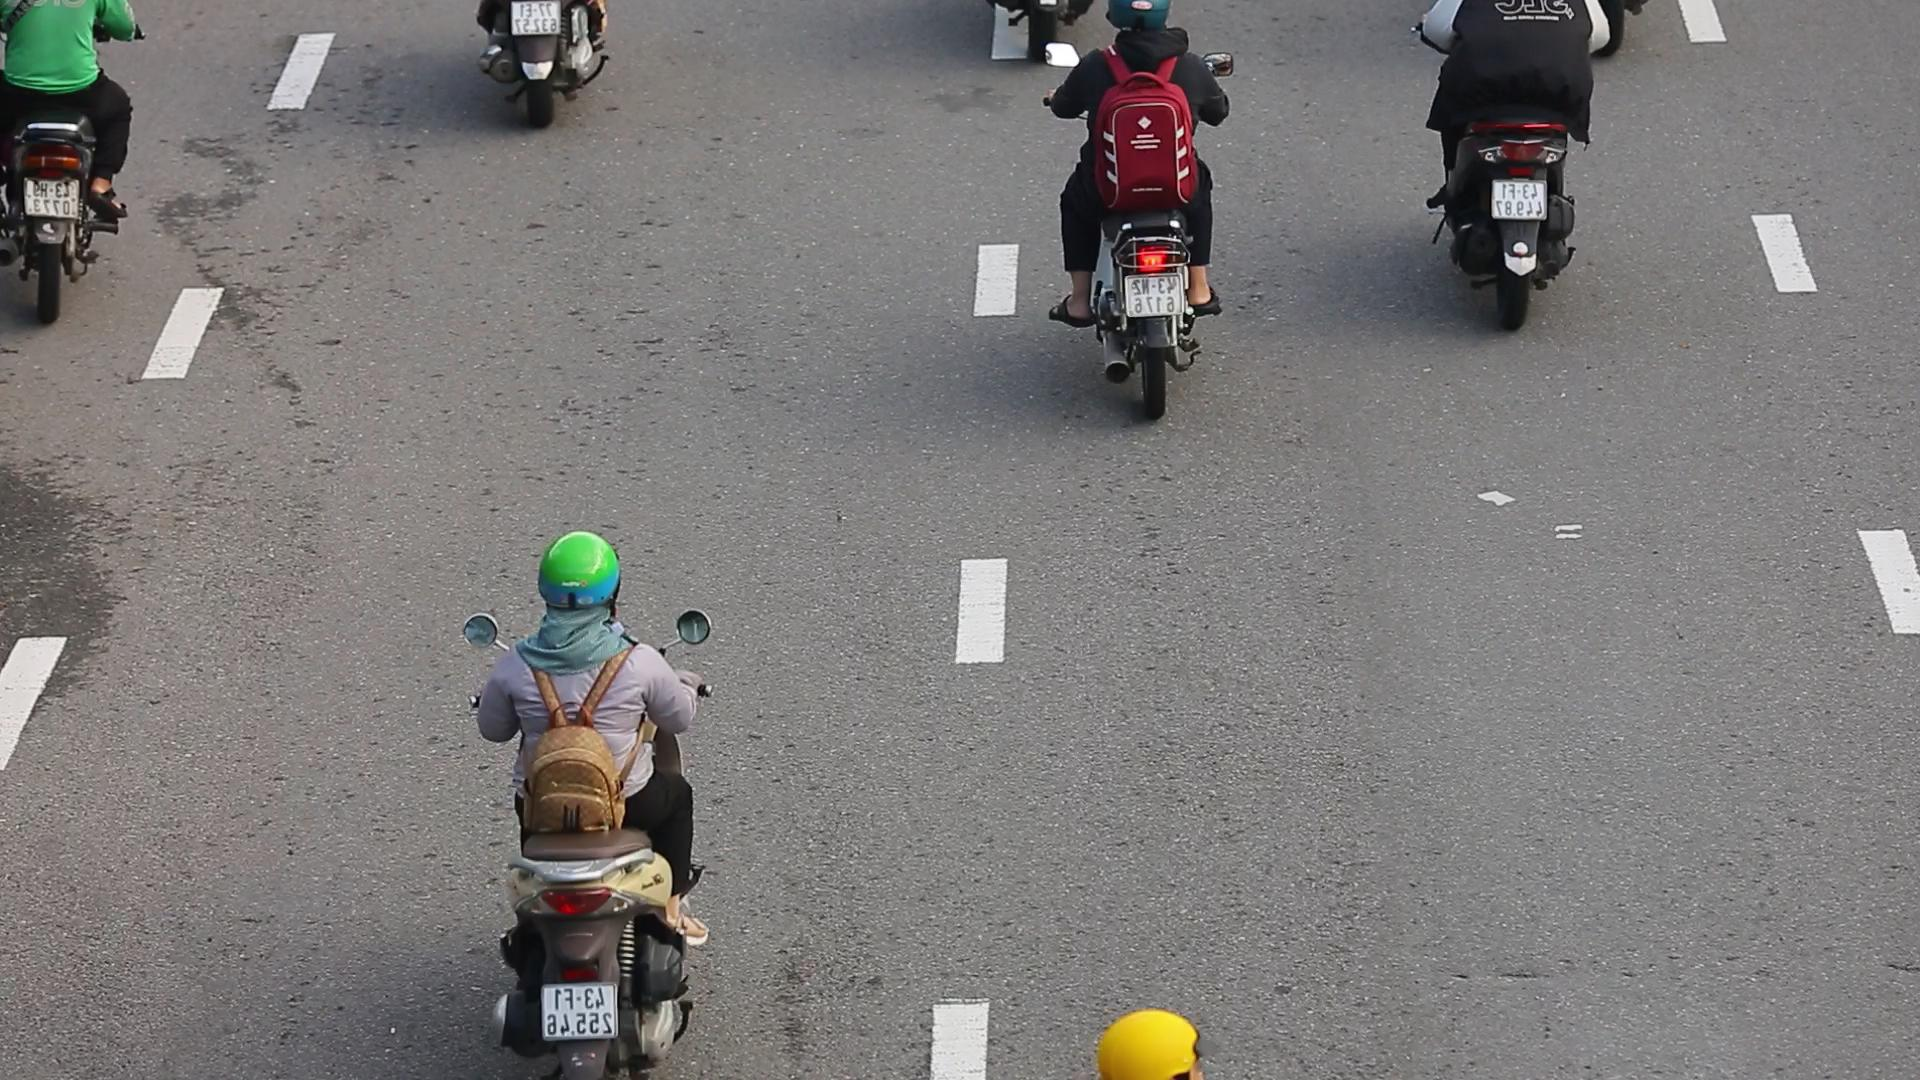motobike: (456, 510, 723, 1080)
